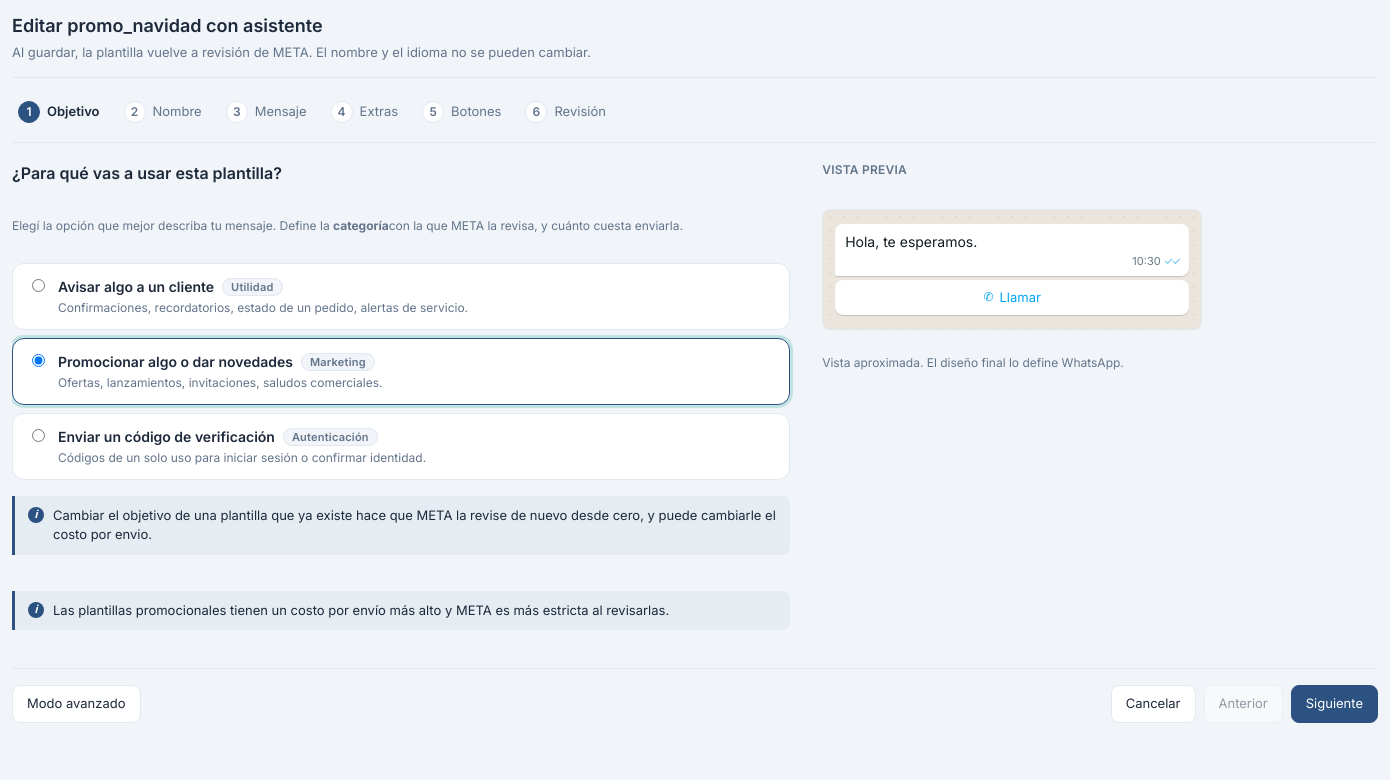
TemplateWizard — un error no se ve igual que un aviso › lo que hay que corregir y lo que solo hay que saber usan estilos distintos
Click the button "6 Revisión".
click(569, 112)  # box top-left (519, 96), bottom-right (618, 128)
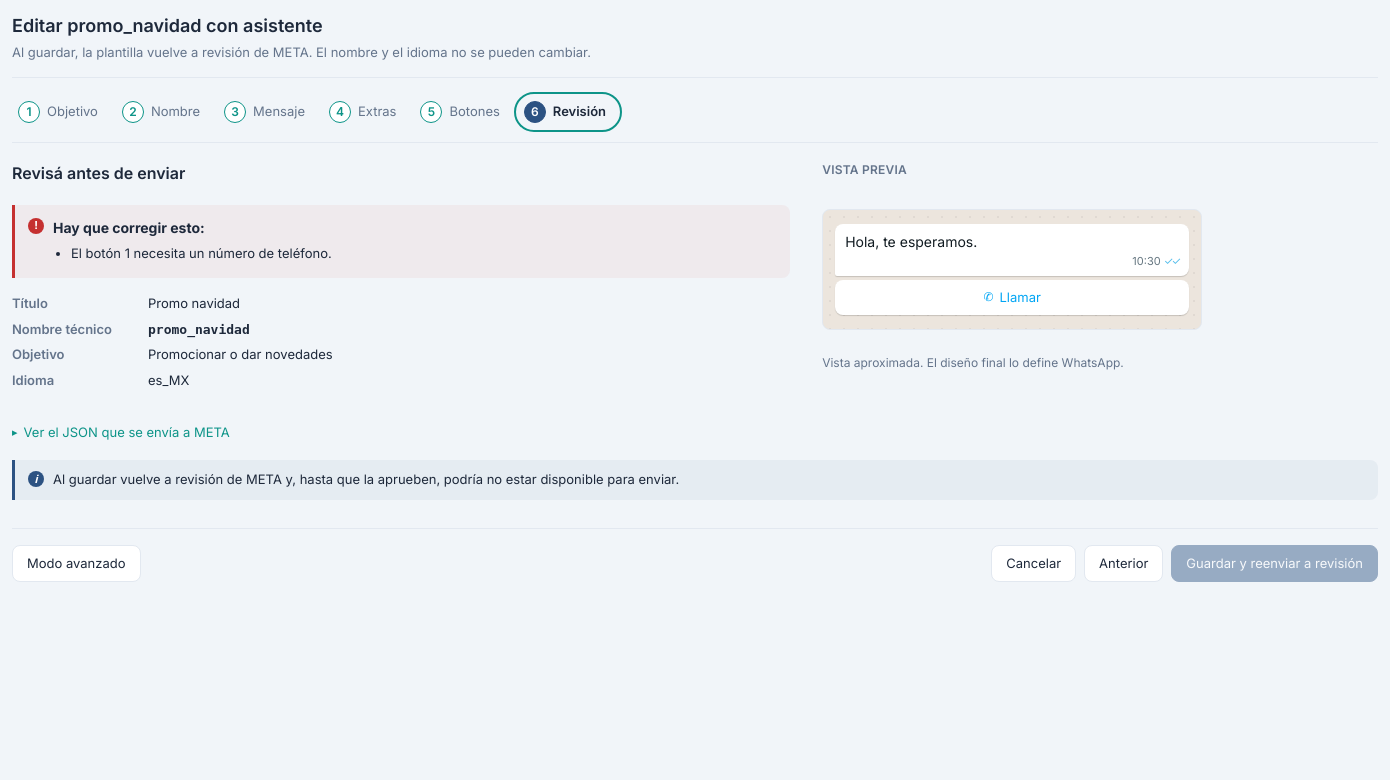
Expected: the text with class "bo-pl__notice--tight" shows "revisión de META", top-left (53, 471), bottom-right (679, 487)
